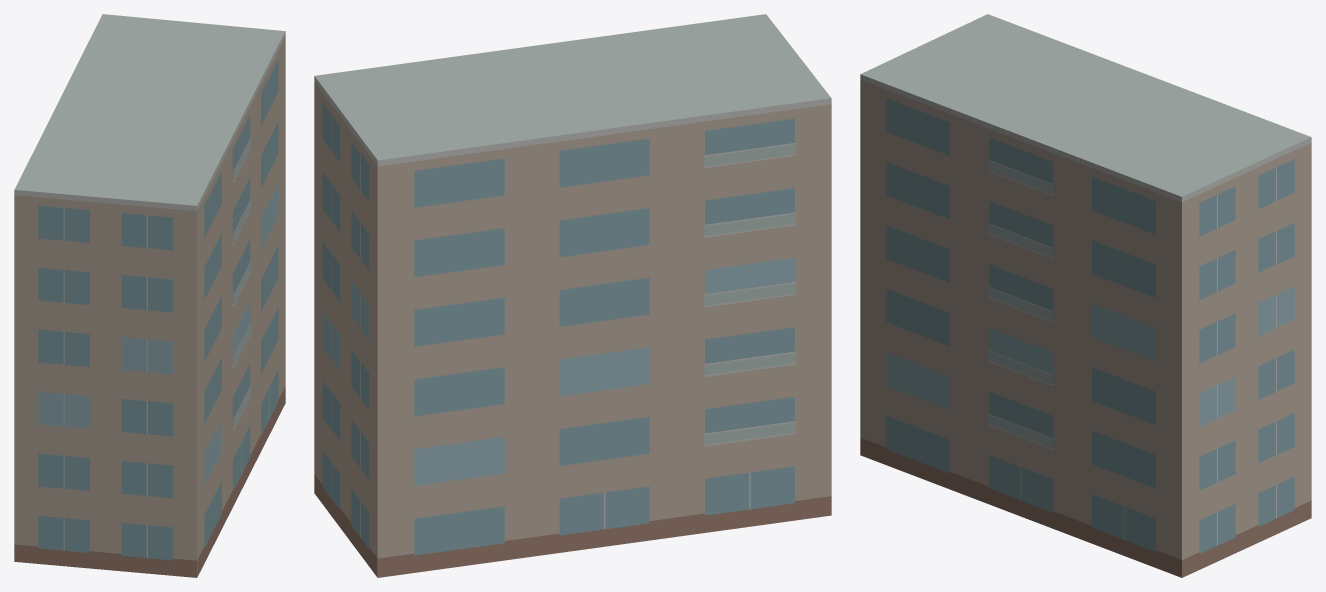
File: survey-upis-32989690.glb
3 renders of one model, left to right at view 1: azimuth 30°, elevation 25°; view 2: azimuth 150°, elevation 25°; view 3: azimuth 270°, elevation 25°, orthographic. The views are drawn at different scales.
Parts seen in each view (by area): view 1: survey-upis-32989690.tmp; view 2: survey-upis-32989690.tmp; view 3: survey-upis-32989690.tmp.
Part boxes in pixels (left/top/right/bottom): survey-upis-32989690.tmp: left=14, top=14, right=285, bottom=577; survey-upis-32989690.tmp: left=314, top=14, right=831, bottom=577; survey-upis-32989690.tmp: left=860, top=14, right=1311, bottom=577.
Bounding box in the file's own units: 17.51 × 17 × 18.26.
